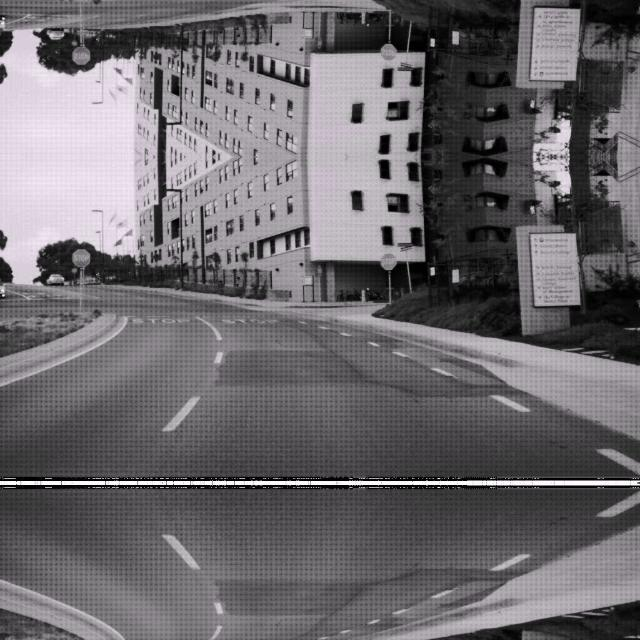stop: (72, 247, 90, 265), (72, 47, 90, 65), (380, 252, 396, 268), (380, 44, 396, 60)
